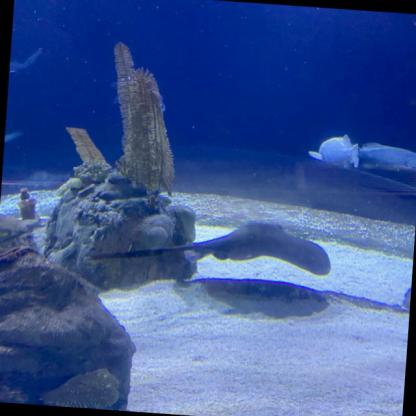fish: (359, 140, 415, 180), (306, 134, 361, 172)
stingray: (194, 212, 334, 272)
